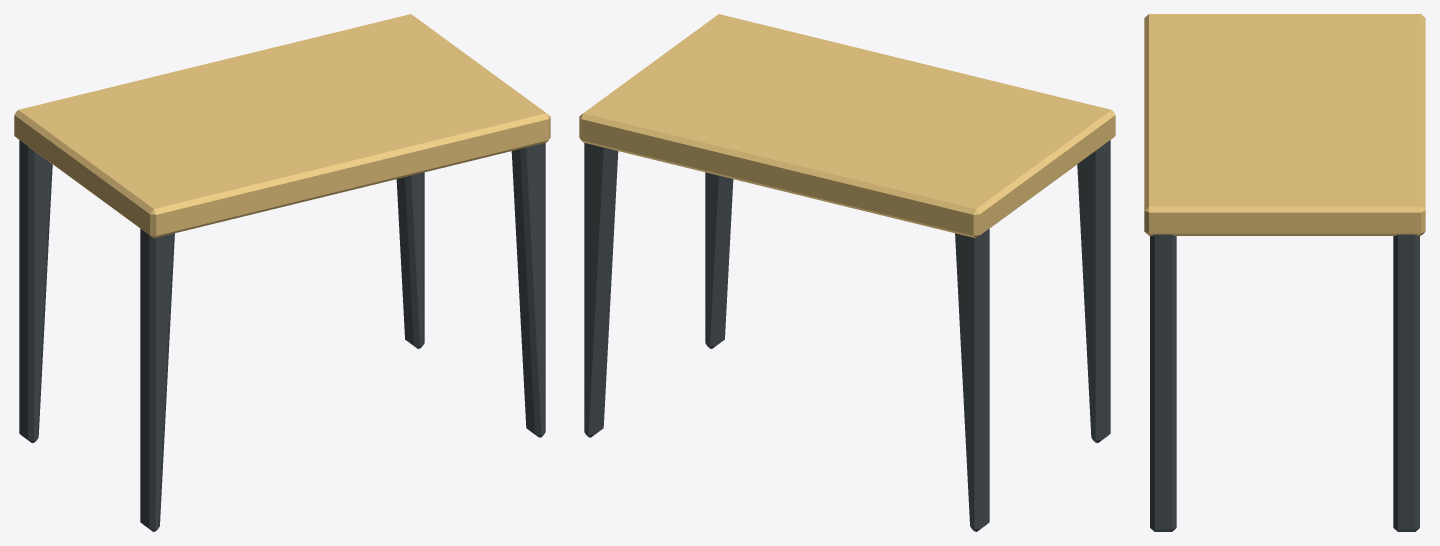
The model's file is table.fbx.
3 views of the same model, side by side, from view 1: azimuth 30°, elevation 25°; view 2: azimuth 150°, elevation 25°; view 3: azimuth 270°, elevation 25° (orthographic).
Parts seen in each view (by area): view 1: Plane.007, Plane.008; view 2: Plane.007, Plane.008; view 3: Plane.007, Plane.008.
Part boxes in pixels (x1,y1,x2,y2): Plane.007: (14,14,550,238); Plane.008: (19,140,545,531); Plane.007: (579,14,1115,238); Plane.008: (584,140,1110,531); Plane.007: (1144,14,1425,235); Plane.008: (1150,234,1419,531).
Size of the model in its own units: 502 by 390 by 304.
